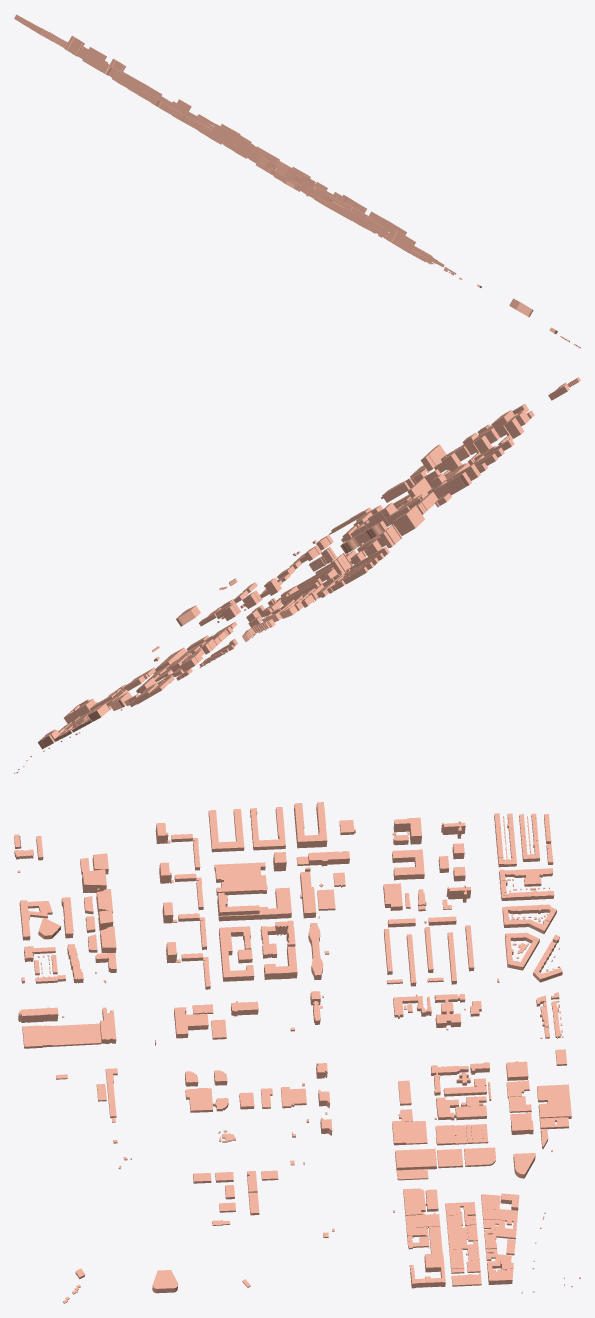
3 renders of one model, top to bottom at view 1: azimuth 30°, elevation 25°; view 2: azimuth 150°, elevation 25°; view 3: azimuth 270°, elevation 25°, orthographic. The views are drawn at different scales.
Size of the model in its own units: 1023 by 774 by 1259.
